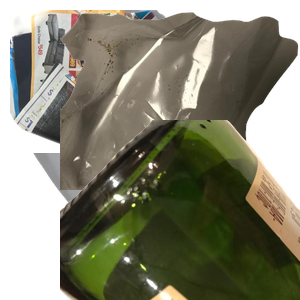glass: (60, 120, 300, 300)
paper: (10, 10, 250, 190)
plastic: (29, 153, 245, 300)
trash: (60, 10, 300, 190)
